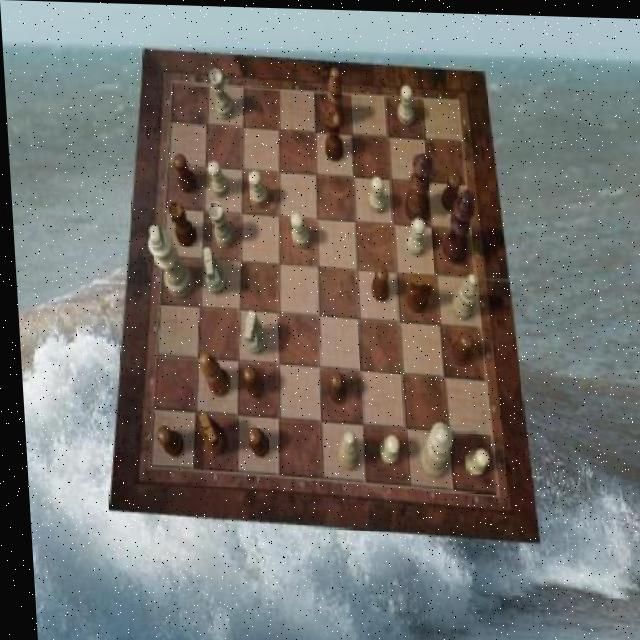bishop: (196, 352, 226, 396), (324, 67, 344, 128)
black-bishop: (437, 187, 475, 262)
black-king: (193, 412, 222, 455), (402, 272, 431, 310)
black-knight: (171, 153, 195, 193), (151, 425, 180, 456), (436, 170, 458, 210), (445, 329, 470, 364), (237, 364, 260, 398), (322, 369, 343, 403), (242, 425, 264, 457), (367, 264, 386, 300)
black-pawn: (400, 151, 433, 222)
black-queen: (164, 199, 194, 245), (322, 109, 342, 160)
black-rook: (446, 270, 476, 318), (331, 430, 355, 470)
white-bishop: (144, 223, 191, 298)
white-king: (200, 246, 224, 294), (237, 310, 262, 354)
white-knight: (401, 215, 424, 253), (204, 160, 226, 197), (394, 83, 413, 123), (459, 445, 485, 474), (365, 174, 385, 211), (245, 170, 265, 206), (372, 431, 394, 463), (287, 211, 306, 247)
white-pawn: (411, 419, 448, 475)
white-queen: (207, 68, 233, 119), (205, 200, 231, 247)
